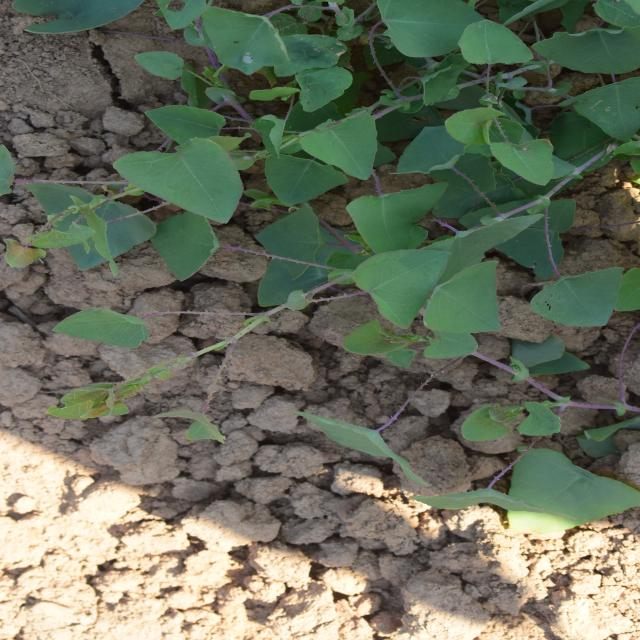Asiatic_Smartweed: (180, 31, 358, 272), (431, 236, 556, 542), (370, 34, 543, 245), (297, 316, 429, 573), (102, 409, 239, 619), (431, 112, 547, 262)
